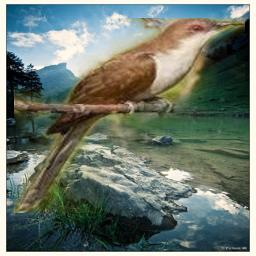Cuckoo: (14, 18, 245, 213)
